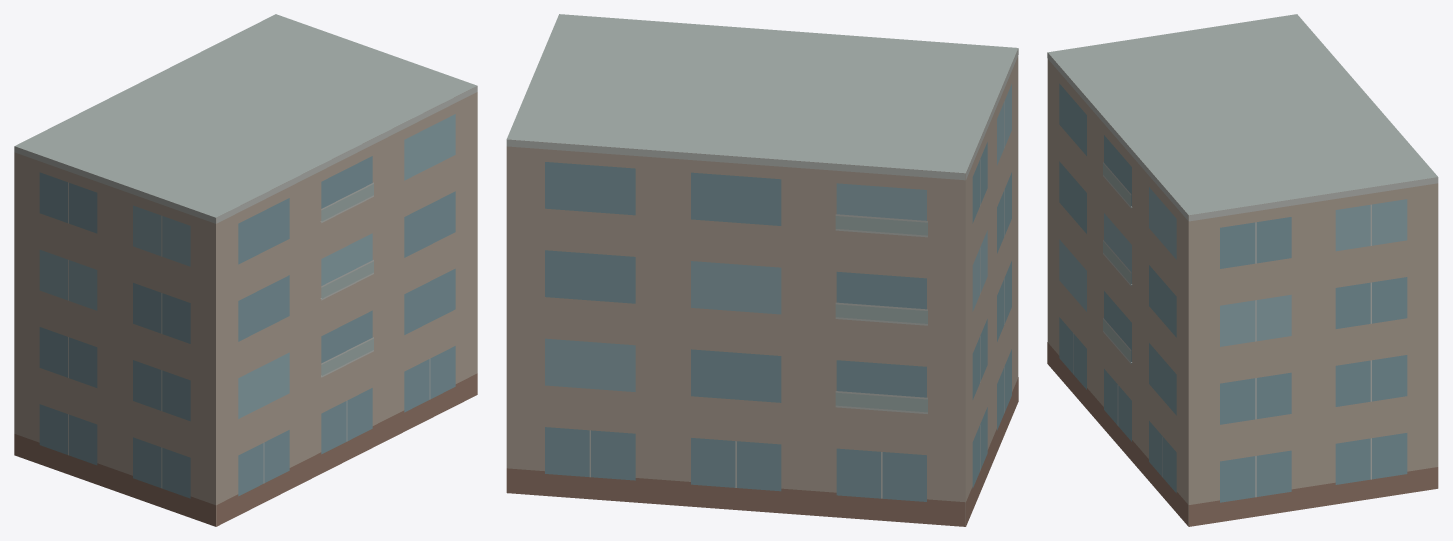
Rendered from survey-upis-32722148.glb.
3 renders of one model, left to right at view 1: azimuth 30°, elevation 25°; view 2: azimuth 150°, elevation 25°; view 3: azimuth 270°, elevation 25°, orthographic. The views are drawn at different scales.
Visible parts, largest first — view 1: survey-upis-32722148.tmp; view 2: survey-upis-32722148.tmp; view 3: survey-upis-32722148.tmp.
Part boxes in pixels (x1,y1,x2,y2): survey-upis-32722148.tmp: (14,14,477,526); survey-upis-32722148.tmp: (506,14,1018,526); survey-upis-32722148.tmp: (1047,14,1438,526).
Size of the model in its own units: 17.05 by 12.3 by 13.99.
